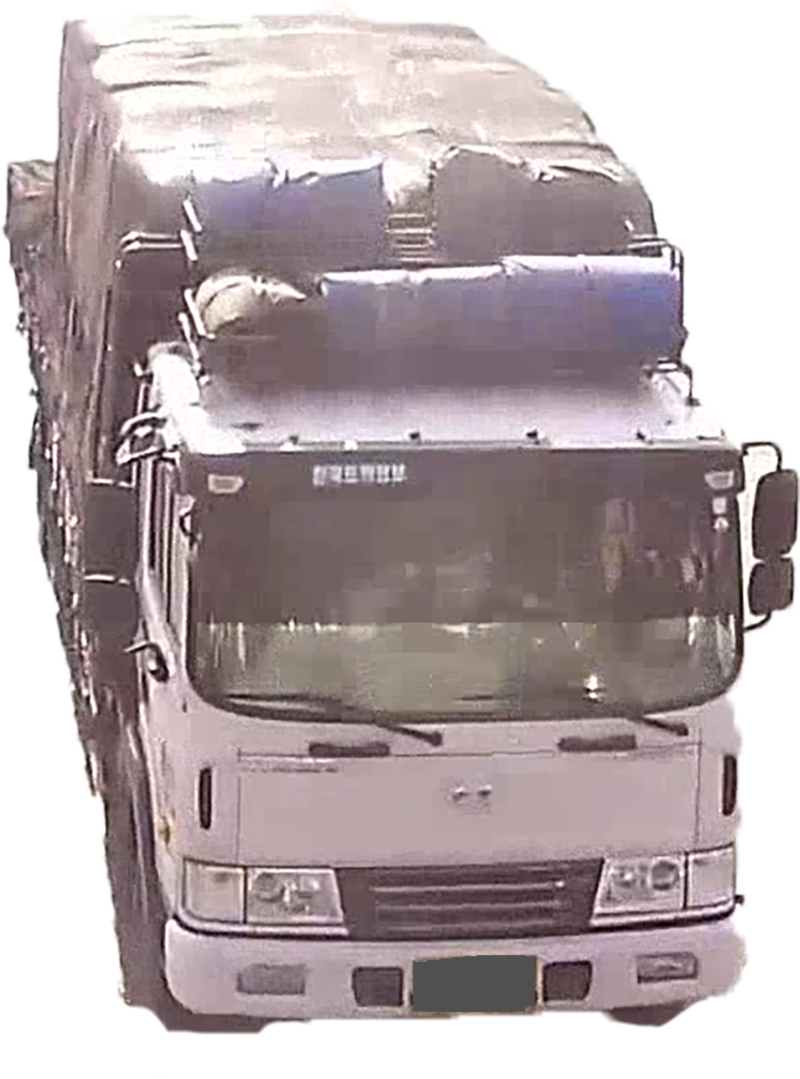P1_: (546, 957, 551, 965)
bbox: (403, 957, 546, 1015)
